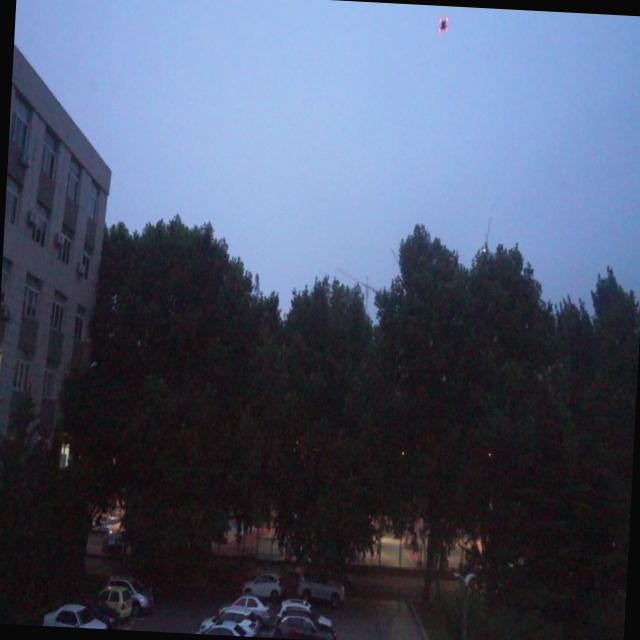drone: (437, 13, 450, 38)
